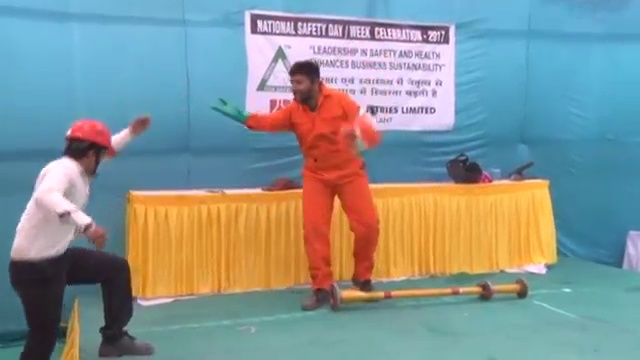helmet: (64, 118, 117, 155)
helmet_off: (287, 60, 323, 104)
helmet_on: (62, 117, 118, 175)
person: (222, 60, 383, 305), (6, 116, 152, 360)
